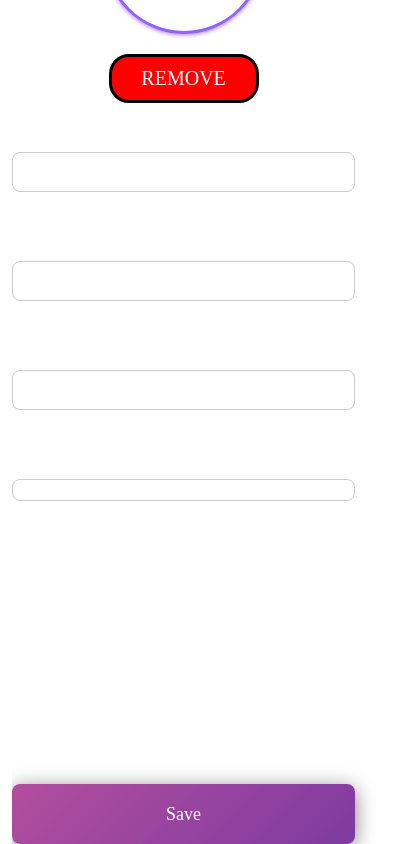
Scenario: Edit Profile Form › should handle the case when twitter is not valid
(page scrolled)
Click the element with test id "SaveButton": (184, 814) [12,784,355,843]
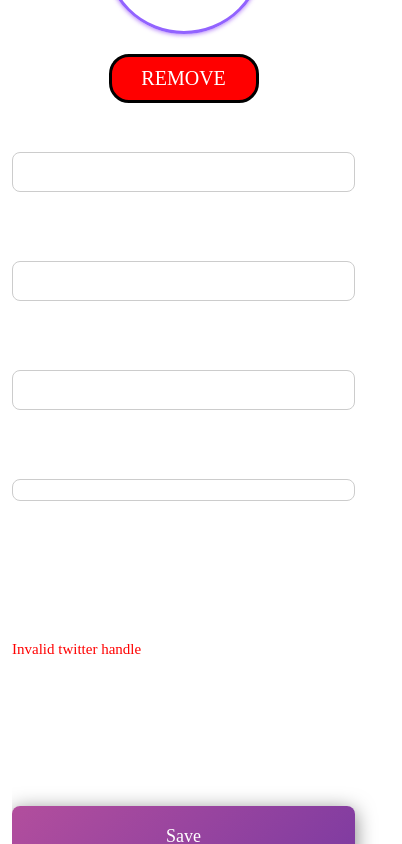
Expected: the text "Invalid twitter handle" is shown, [12,641,141,657]
